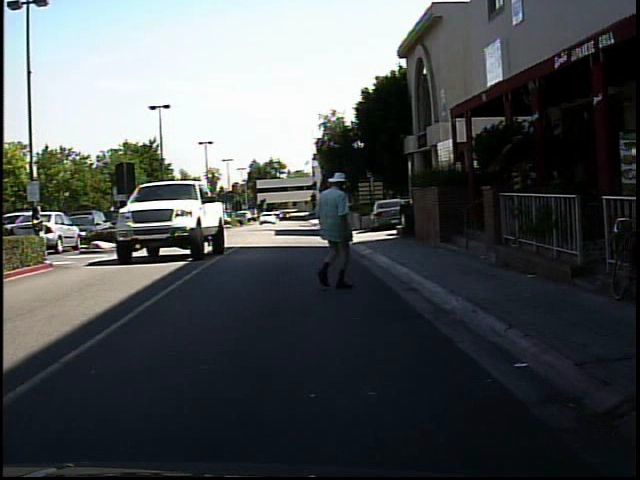person: (306, 166, 365, 292), (27, 201, 53, 261), (206, 204, 222, 229)
